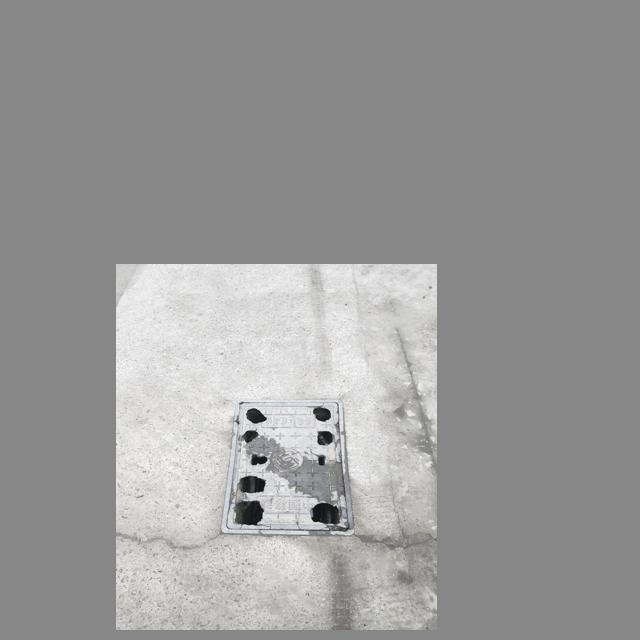broke: (220, 399, 354, 536)
